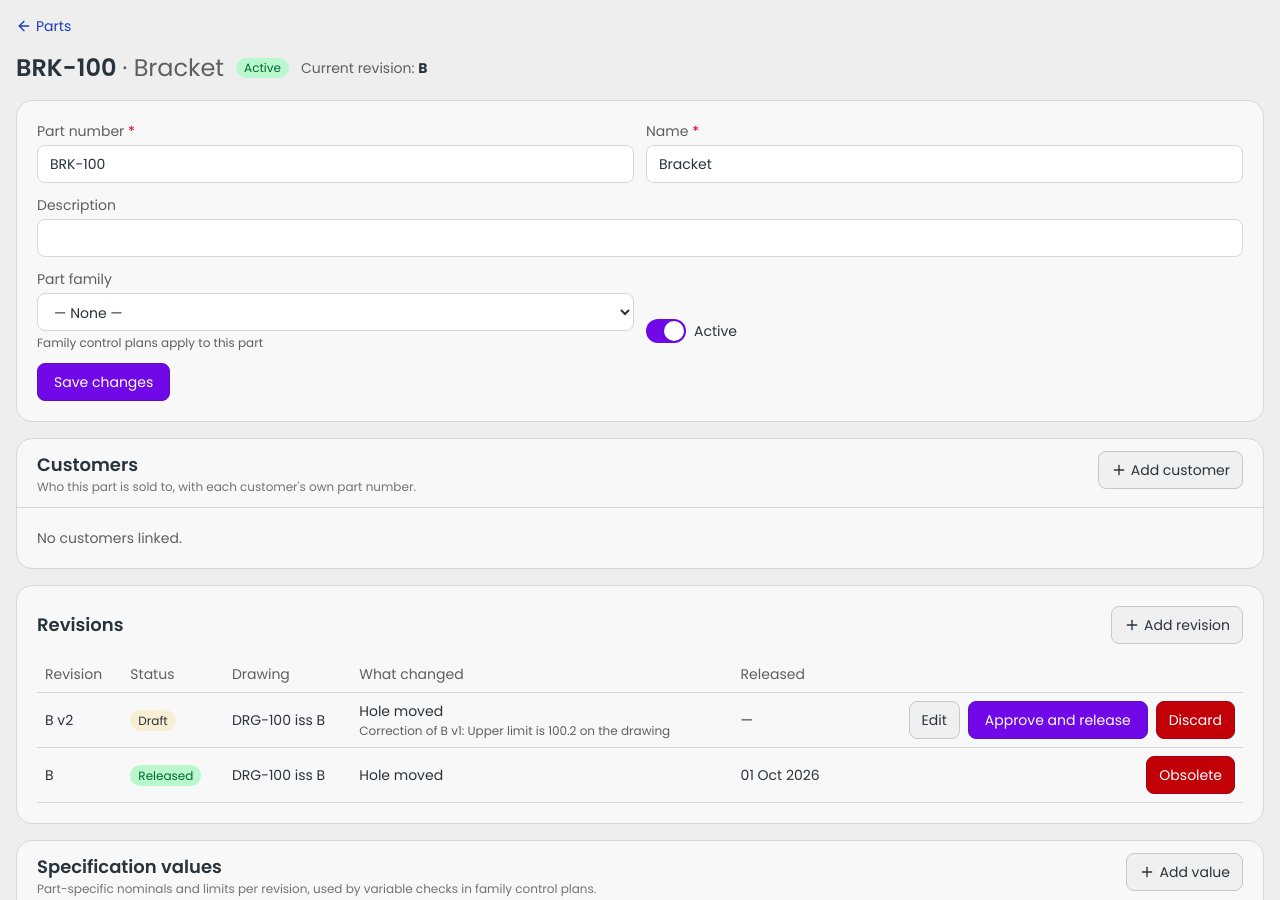
Test: the revision table with a correction › explains an empty view for someone without inspection or NC access
Click the button "Approve and release": (1058, 720) [968, 701, 1148, 739]
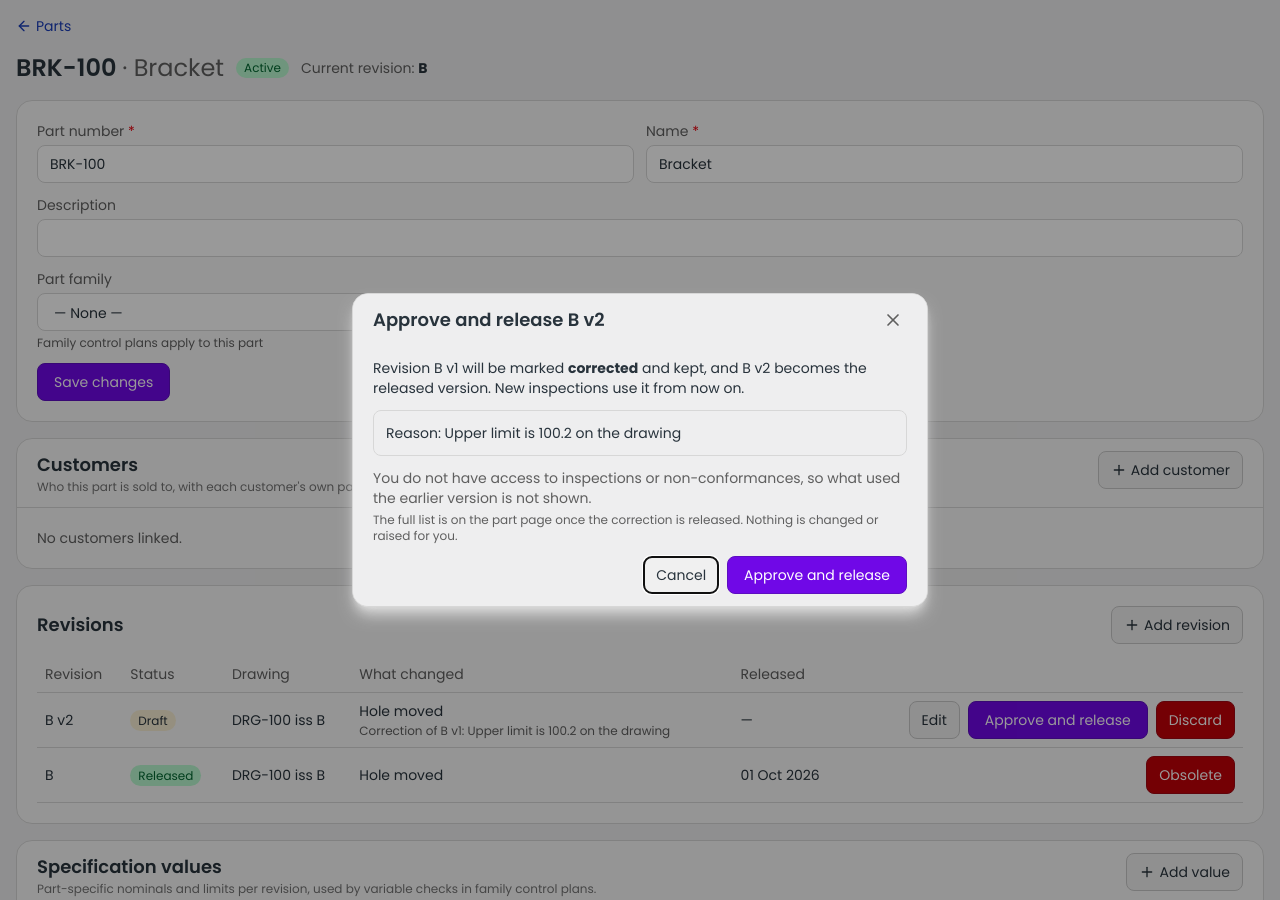
Check: the text "You do not have access to inspections or non-conformances" is shown, box [373, 468, 900, 508]
